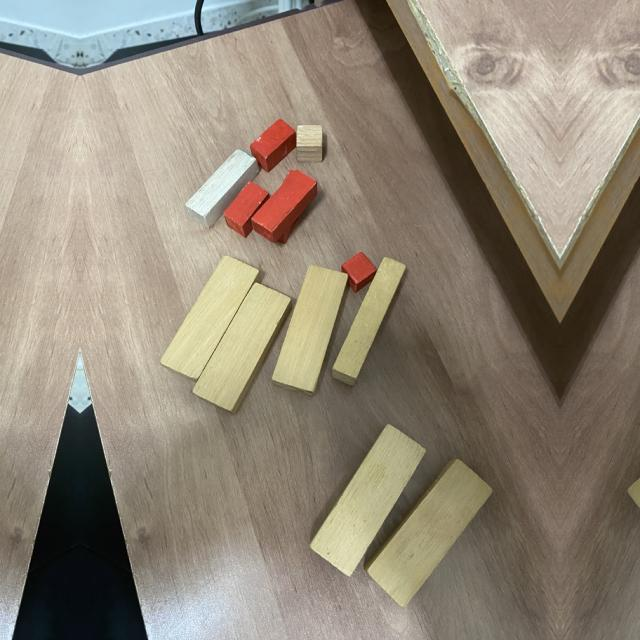block: (185, 148, 260, 228)
cube: (296, 125, 323, 163)
jenga: (363, 458, 493, 608), (309, 424, 426, 577), (191, 282, 293, 414), (160, 256, 262, 383), (271, 264, 348, 397), (332, 256, 406, 387)
red block: (251, 169, 317, 243), (223, 180, 270, 239), (250, 119, 297, 172)
red cube: (341, 251, 377, 293)
